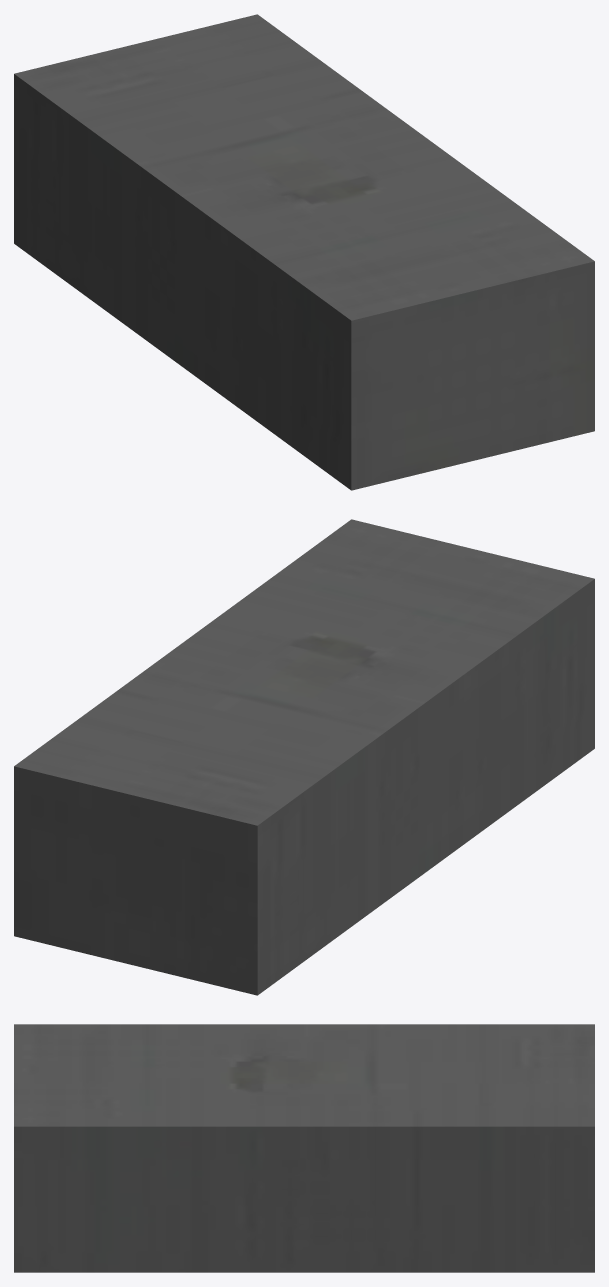
Rendered from frame__support_pivot_bracket_0.glb.
3 views of the same model, one above another, from view 1: azimuth 30°, elevation 25°; view 2: azimuth 150°, elevation 25°; view 3: azimuth 270°, elevation 25° (orthographic). The views are drawn at different scales.
Parts seen in each view (by area): view 1: world; view 2: world; view 3: world.
Boxes of the visible parts, left/top/right/bottom form: world: left=14, top=14, right=594, bottom=490; world: left=14, top=519, right=594, bottom=995; world: left=14, top=1024, right=594, bottom=1272.
Size of the model in its own units: 0.075 by 0.05 by 0.18.
1 material, 1 textured.
